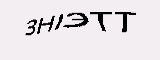І: (53, 13, 65, 31)
З: (22, 18, 36, 37)
Н: (35, 15, 54, 34)
Т: (113, 10, 138, 34), (89, 9, 111, 33)
Э: (62, 12, 90, 30)
